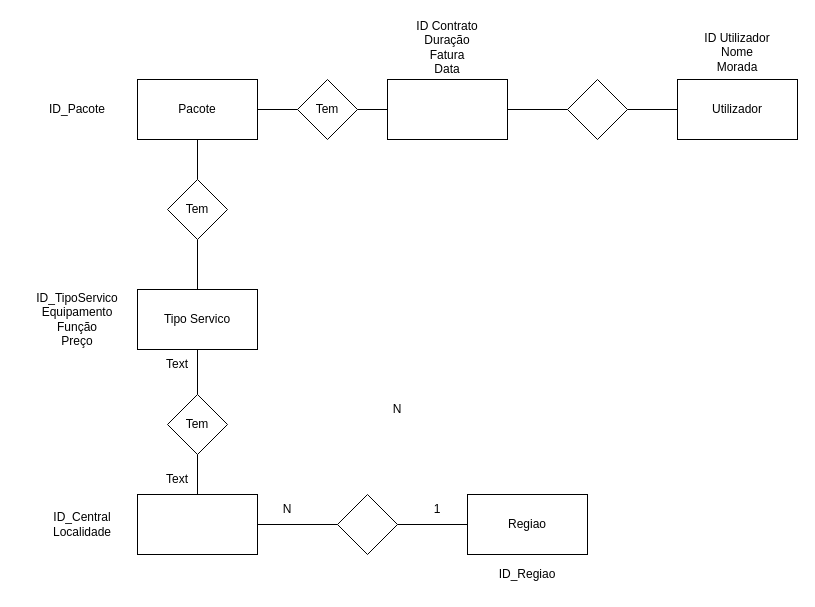
Some shapes in this 815 by 607 pixel diagram are drawn without their labels. The shapes that lost their labels are listed below. From the top down, each one's centre as x and y in pixels, then its label:
At pixel 447 109: "Contrato".
At pixel 597 109: "Realiza".
At pixel 197 524: "Central".
At pixel 367 524: "Pertence".
